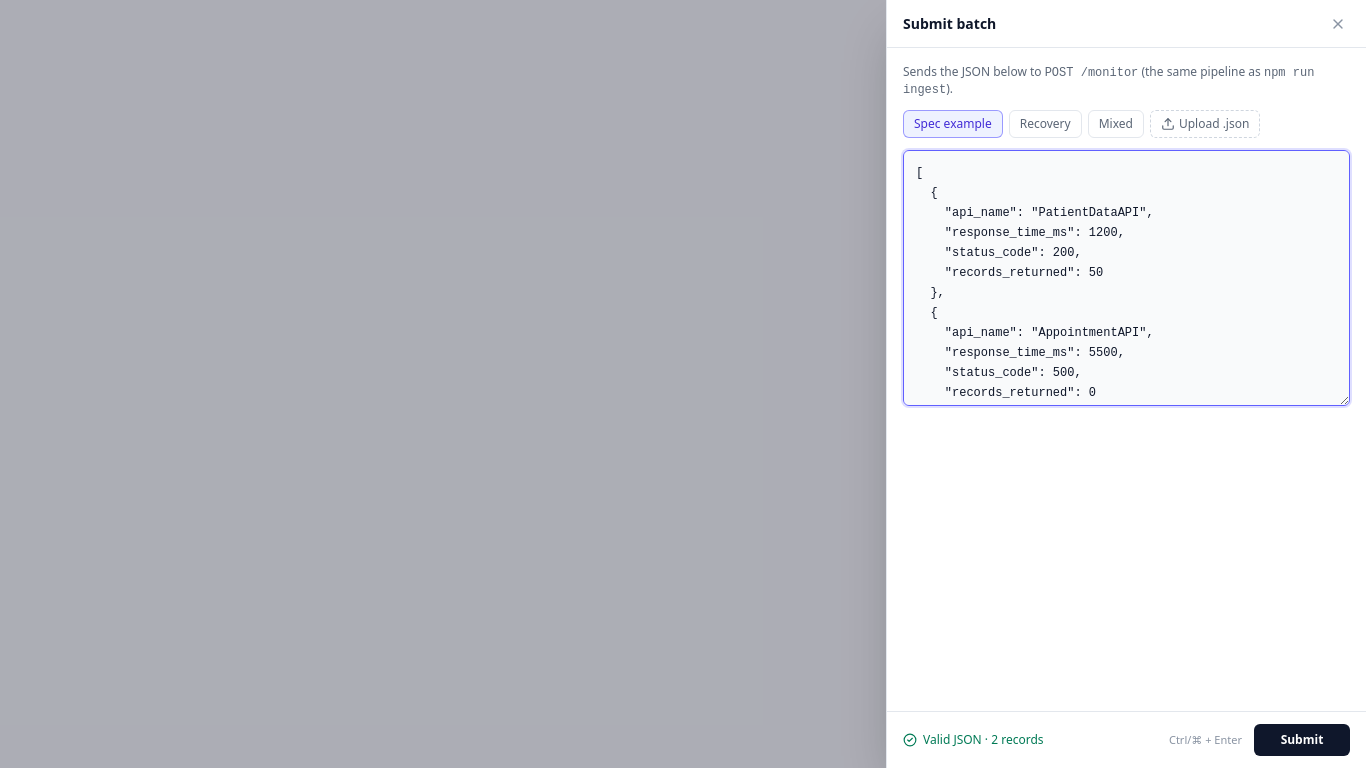
Scenario: SubmitBatchPanel › submits the editor text and shows the result
Step 1. Click the button "Submit" → (1302, 740), box [1254,724,1350,756]
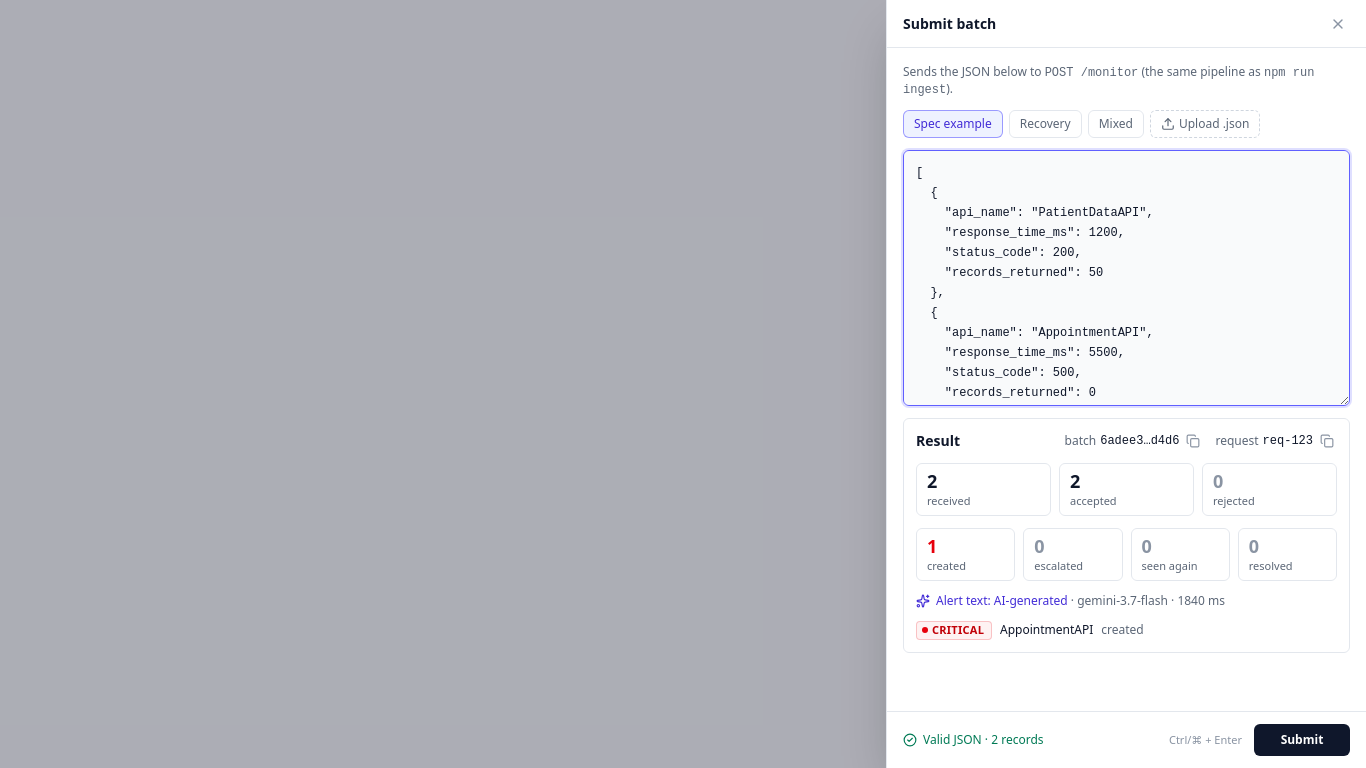
Result: the element named "Batch result" shows "Alert text: AI-generated" at [903,418,1350,653]
Result: the element named "Batch result" shows "gemini-3.7-flash · 1840 ms" at [1077,592,1225,609]
Result: the element named "Batch result" shows "AppointmentAPI" at [1000,621,1093,638]
